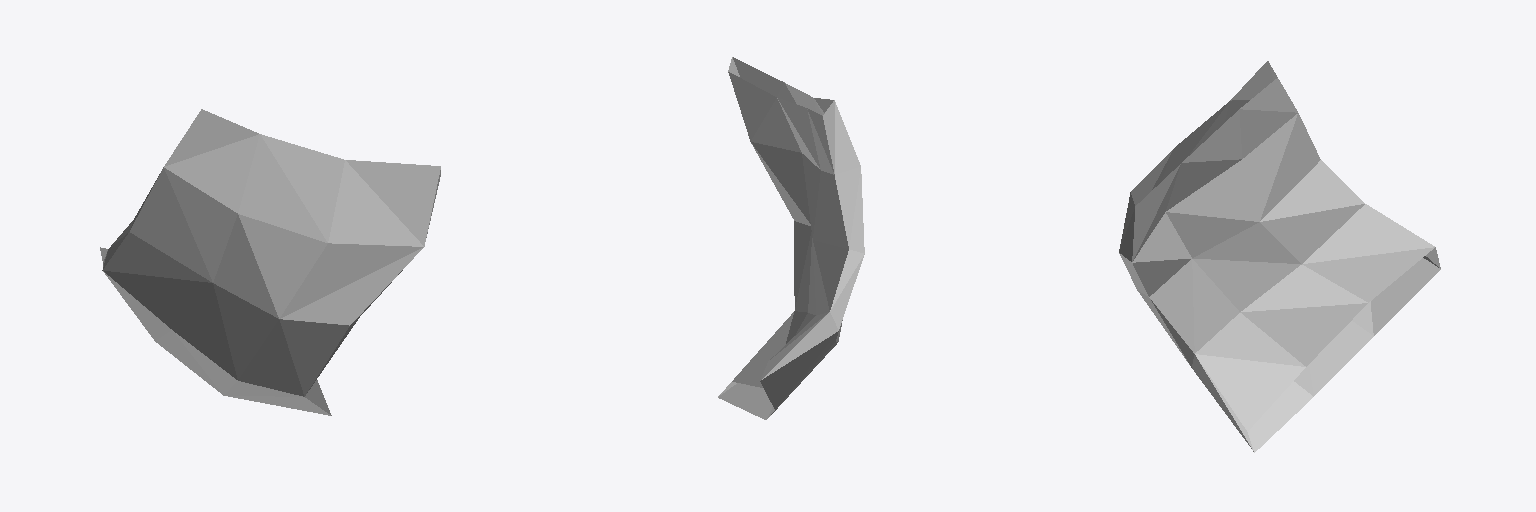
The model's file is Depressor_Labii_Inferioris_Muscle_Right.obj.
The picture shows the model from 3 angles: view 1: azimuth 30°, elevation 25°; view 2: azimuth 150°, elevation 25°; view 3: azimuth 270°, elevation 25°; orthographic projection.
Visible parts, largest first — view 1: Depressor_Labii_Inferioris_Muscle_Right_Mesh group1; view 2: Depressor_Labii_Inferioris_Muscle_Right_Mesh group1; view 3: Depressor_Labii_Inferioris_Muscle_Right_Mesh group1.
Part boxes in pixels (x1,y1,x2,y2): Depressor_Labii_Inferioris_Muscle_Right_Mesh group1: (100, 109, 440, 415); Depressor_Labii_Inferioris_Muscle_Right_Mesh group1: (718, 57, 864, 419); Depressor_Labii_Inferioris_Muscle_Right_Mesh group1: (1119, 61, 1440, 452).
Bounding box in the file's own units: 0.2176 × 0.308 × 0.2704.